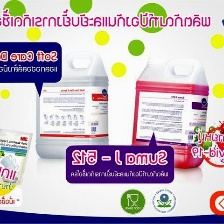cleaning_solution: (127, 54, 211, 171), (33, 48, 111, 162), (0, 126, 35, 206)
